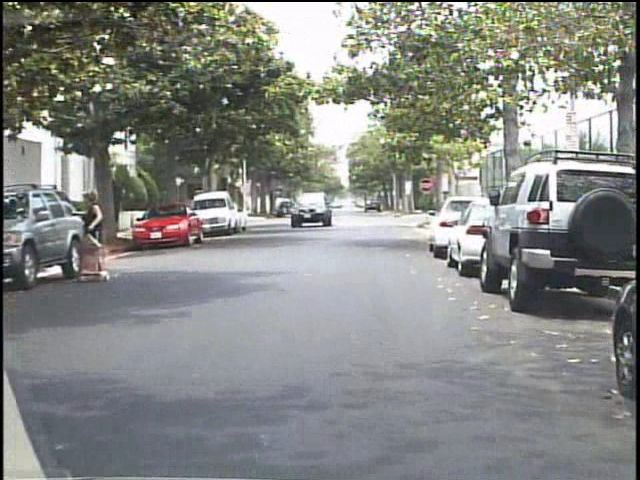person: (83, 186, 120, 284)
